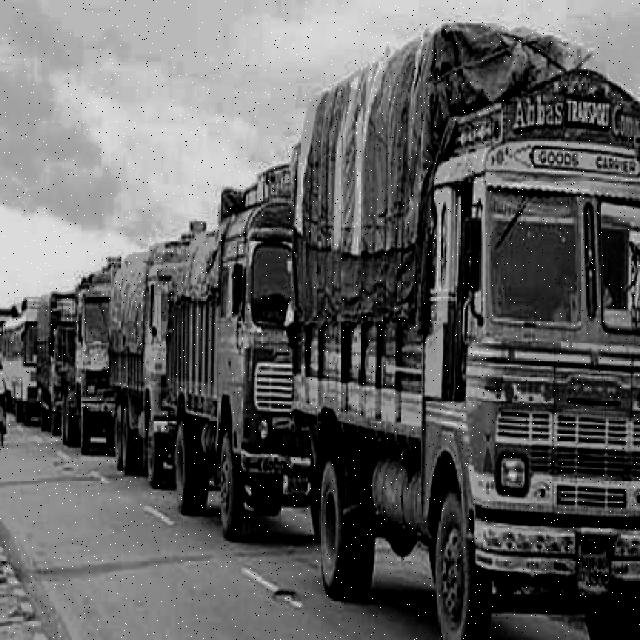HCV: (287, 95, 640, 576), (168, 231, 296, 522), (108, 257, 168, 457), (48, 288, 120, 442)
